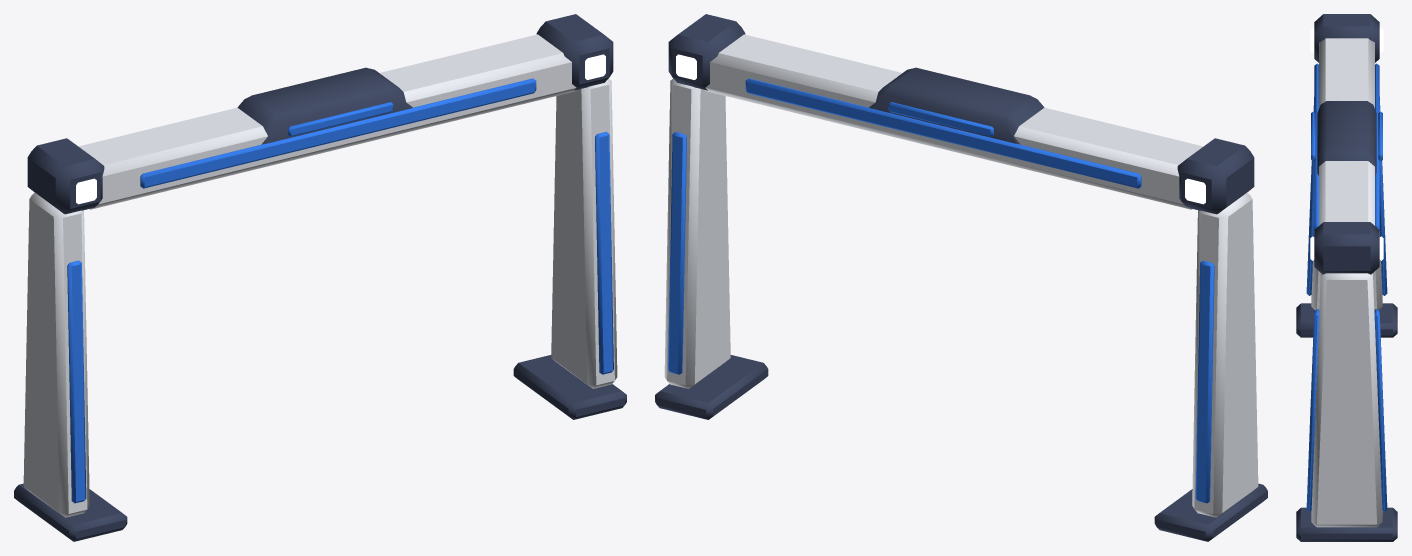
Rendered from gate.glb.
The picture shows the model from 3 angles, left to right: view 1: azimuth 30°, elevation 25°; view 2: azimuth 150°, elevation 25°; view 3: azimuth 270°, elevation 25°; orthographic projection. The views are drawn at different scales.
Visible parts, largest first — view 1: gate; view 2: gate; view 3: gate.
Boxes of the visible parts, left/top/right/bottom form: gate: left=14, top=14, right=626, bottom=541; gate: left=655, top=14, right=1267, bottom=541; gate: left=1296, top=14, right=1397, bottom=541.
Bounding box in the file's own units: 4.8 × 3 × 0.9.
